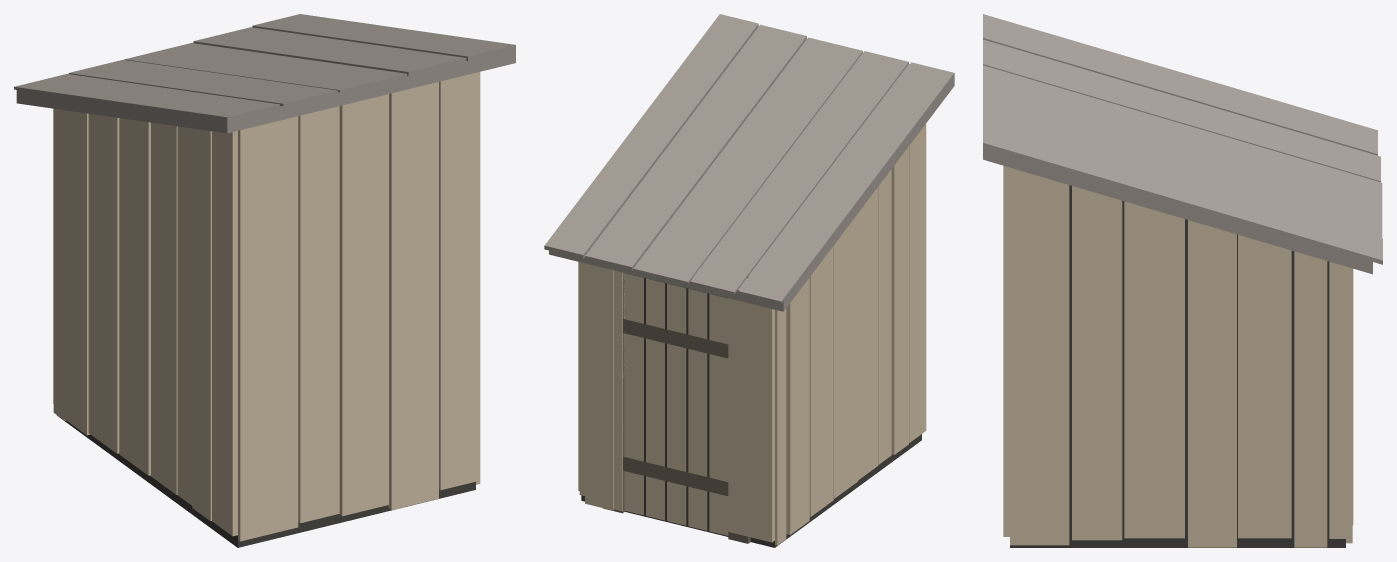
File: recon_1835_blk_lake_market_a3_07__inferred_1835.glb
The picture shows the model from 3 angles, left to right: view 1: azimuth 30°, elevation 25°; view 2: azimuth 150°, elevation 25°; view 3: azimuth 270°, elevation 25°; orthographic projection. The views are drawn at different scales.
Visible parts, largest first — view 1: recon_1835_blk_lake_market_a3_07__inferred_1835; view 2: recon_1835_blk_lake_market_a3_07__inferred_1835; view 3: recon_1835_blk_lake_market_a3_07__inferred_1835.
Part boxes in pixels (box(x1,y1,x2,y2)): recon_1835_blk_lake_market_a3_07__inferred_1835: box(14, 14, 515, 547); recon_1835_blk_lake_market_a3_07__inferred_1835: box(544, 14, 954, 547); recon_1835_blk_lake_market_a3_07__inferred_1835: box(983, 14, 1382, 547).
Bounding box in the file's own units: 1.91 × 2.84 × 2.47.
